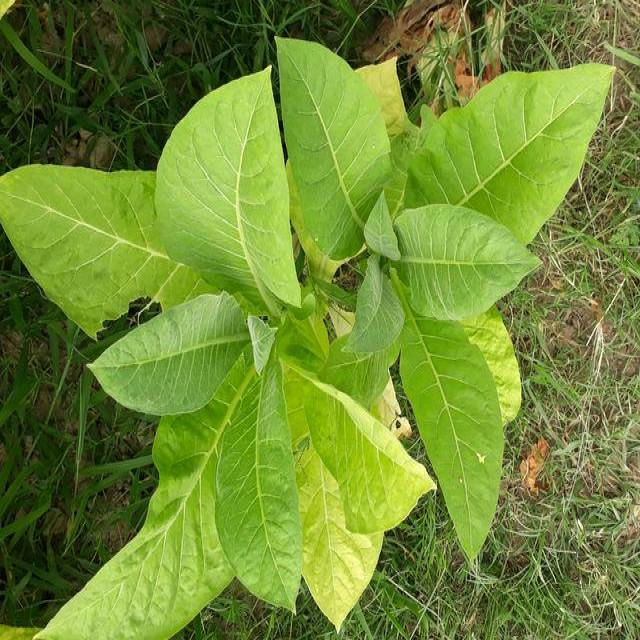crop: (0, 35, 618, 640)
